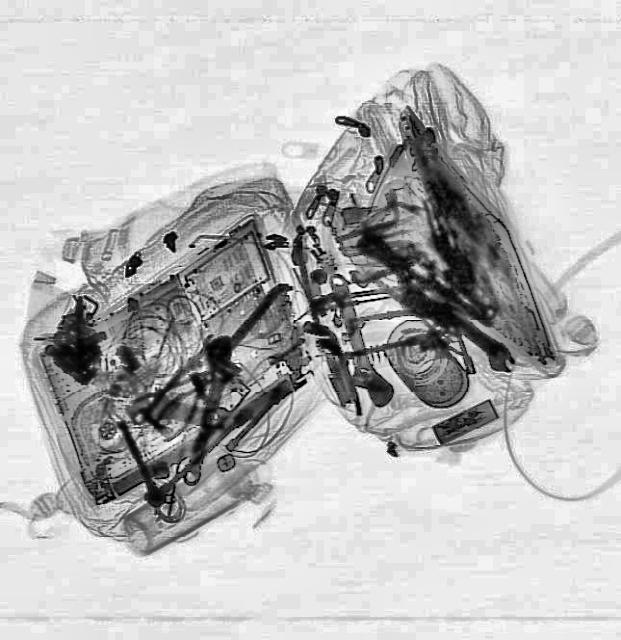Pliers: (144, 366, 220, 446)
Wrench: (167, 330, 246, 488), (314, 268, 396, 412), (426, 297, 520, 377), (124, 387, 229, 438)
